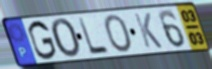6: (158, 8, 187, 50)
G: (27, 19, 58, 62)
K: (132, 12, 164, 50)
L: (77, 16, 112, 57)
O: (49, 17, 83, 60), (103, 14, 135, 54)
